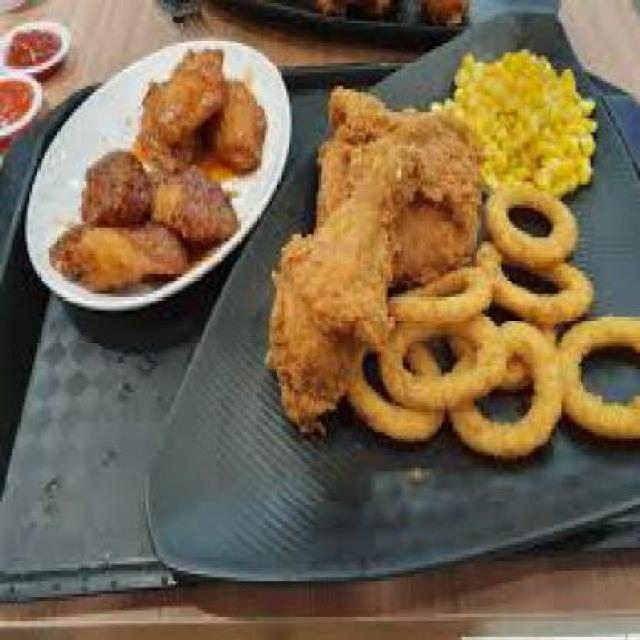chicken wings: (57, 42, 472, 422)
macaroni and cheese: (442, 36, 608, 198)
onion rings: (368, 204, 638, 458)
